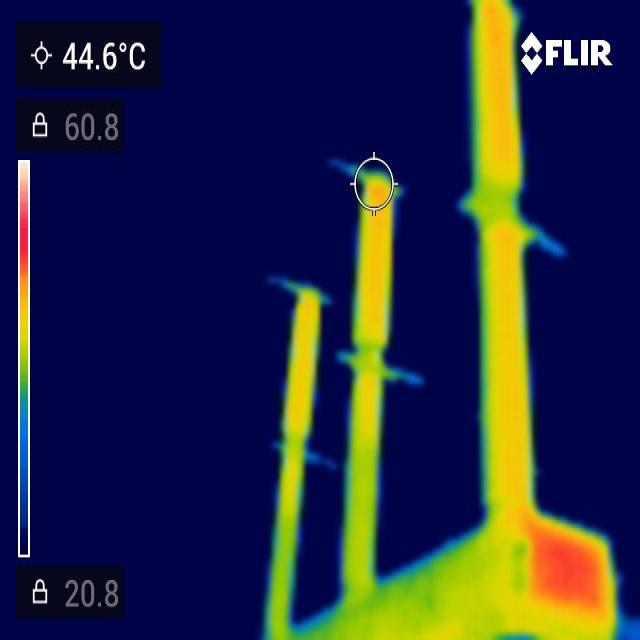Zona_Atenco: (532, 523, 599, 606)
